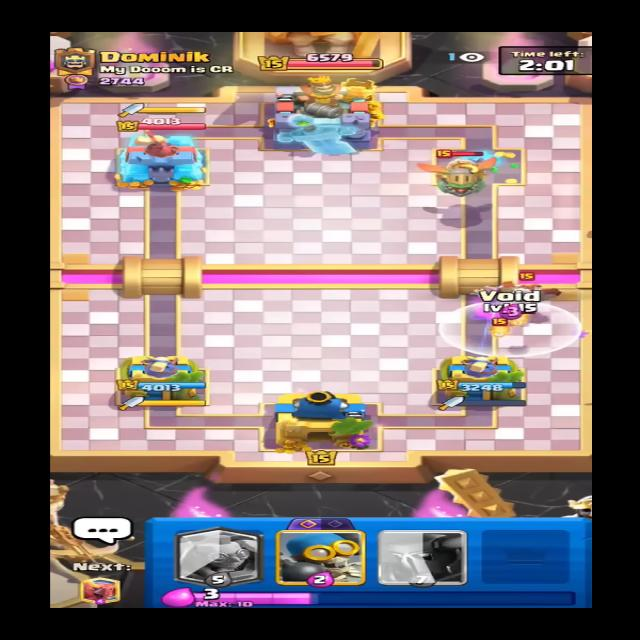inferno-dragon: (419, 149, 501, 195)
skeleton-dragon: (503, 268, 568, 309)
